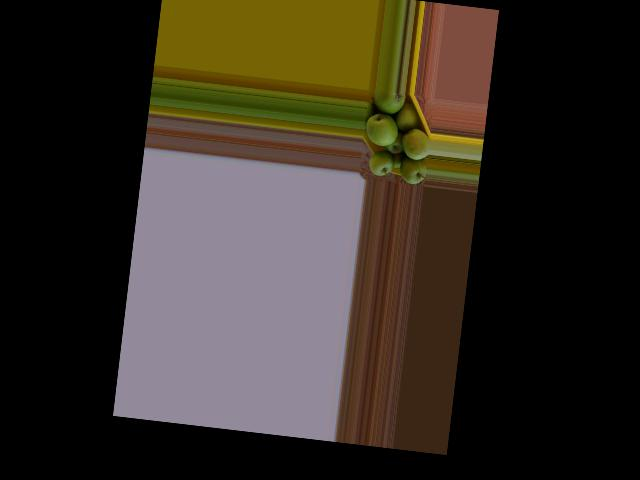apple: (393, 100, 424, 132)
